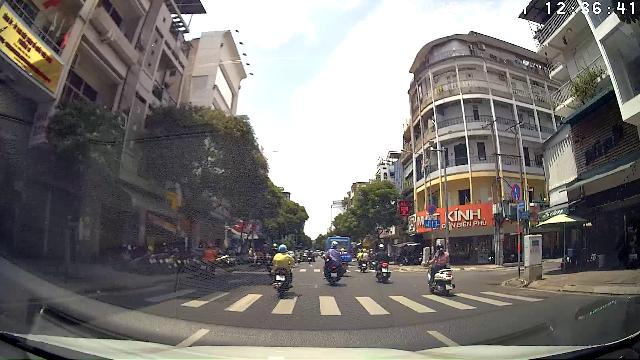131a-cam-do-xe: (427, 204, 437, 215)
131b-cam-do-xe-ngay-le: (511, 183, 521, 202)
